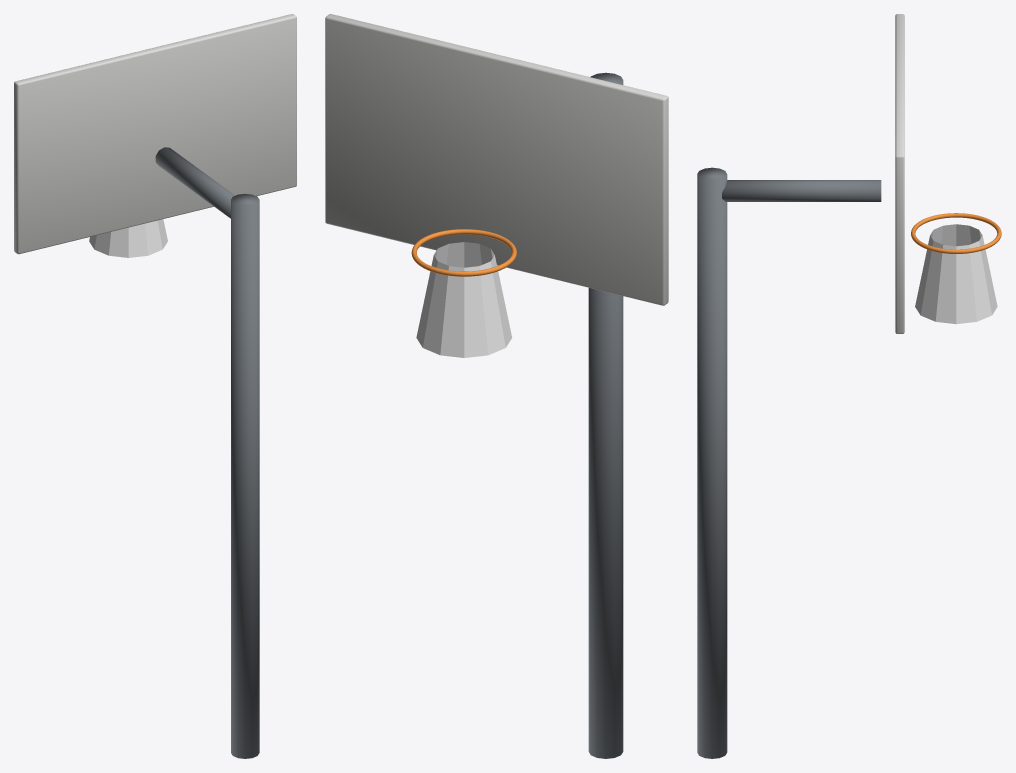
The model's file is park_hoop.glb.
The picture shows the model from 3 angles, left to right: view 1: azimuth 30°, elevation 25°; view 2: azimuth 150°, elevation 25°; view 3: azimuth 270°, elevation 25°; orthographic projection. The views are drawn at different scales.
Parts seen in each view (by area): view 1: park_hoop; view 2: park_hoop; view 3: park_hoop.
Boxes of the visible parts, bbox=[...] form: park_hoop: bbox=[14, 14, 296, 758]; park_hoop: bbox=[325, 14, 668, 758]; park_hoop: bbox=[697, 14, 1001, 758].
Bounding box in the file's own units: 1.8 × 3.93 × 1.62.
